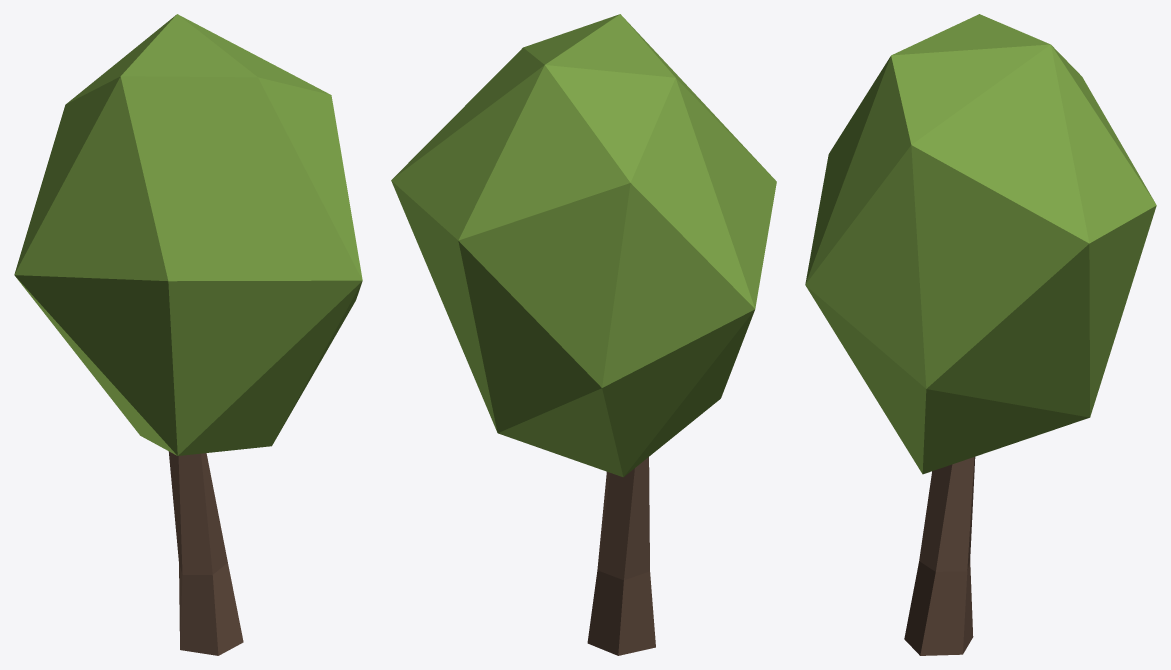
Rendered from TB_Env_RTree_B.FBX.
3 renders of one model, left to right at view 1: azimuth 30°, elevation 25°; view 2: azimuth 150°, elevation 25°; view 3: azimuth 270°, elevation 25°, orthographic. The views are drawn at different scales.
Visible parts, largest first — view 1: TB_Env_RTree_B; view 2: TB_Env_RTree_B; view 3: TB_Env_RTree_B.
Boxes of the visible parts, x1,y1,x2,y2 form: TB_Env_RTree_B: [14, 14, 362, 655]; TB_Env_RTree_B: [391, 14, 776, 655]; TB_Env_RTree_B: [805, 14, 1156, 655].
Bounding box in the file's own units: 3.08 × 5.53 × 2.89.
